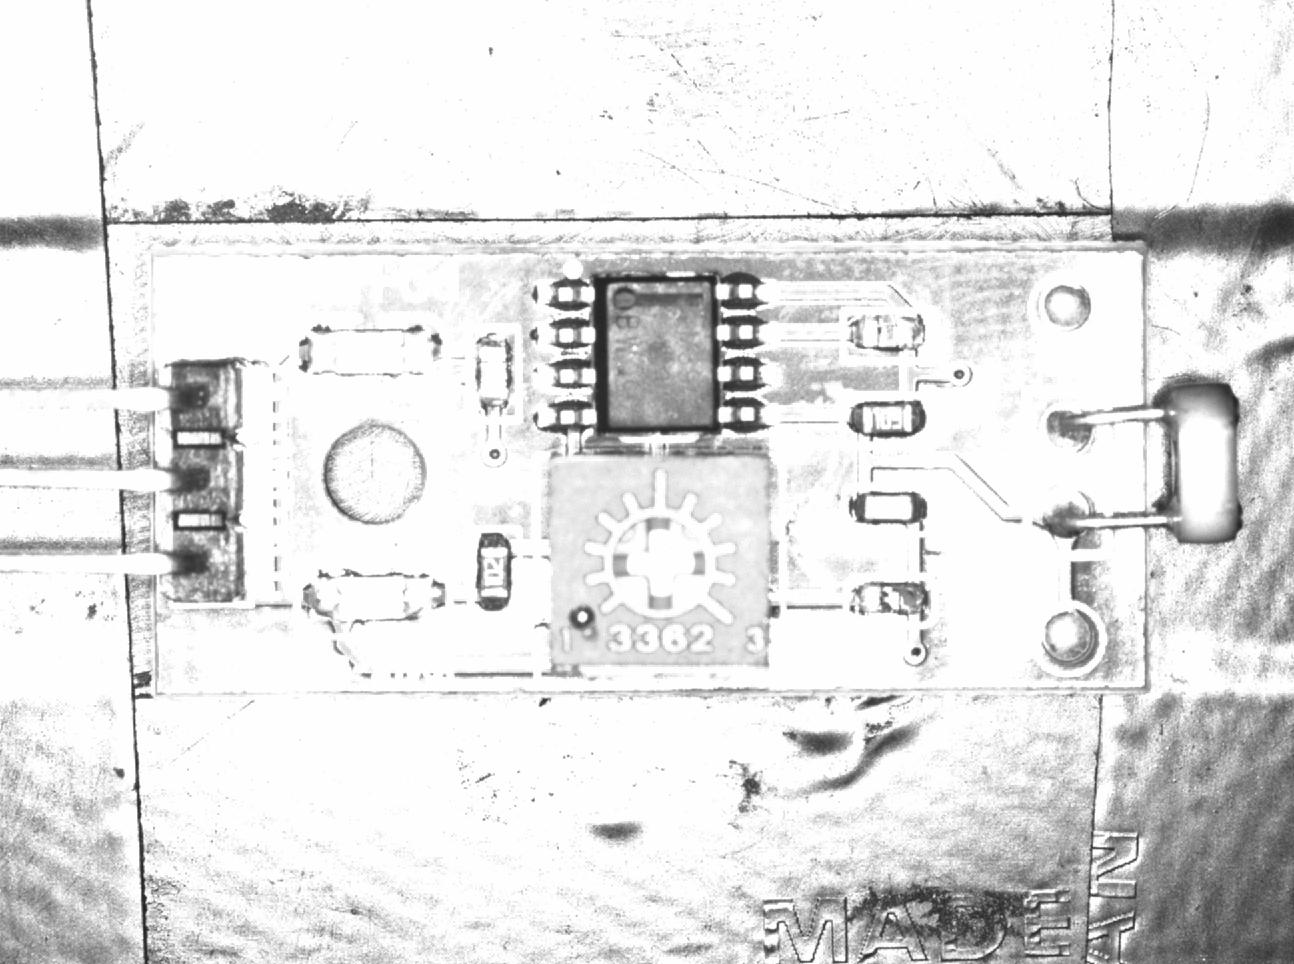miss: (840, 574, 934, 629), (841, 308, 936, 356)
ok: (465, 524, 520, 623), (465, 323, 516, 421), (840, 395, 935, 444), (844, 486, 933, 534)
